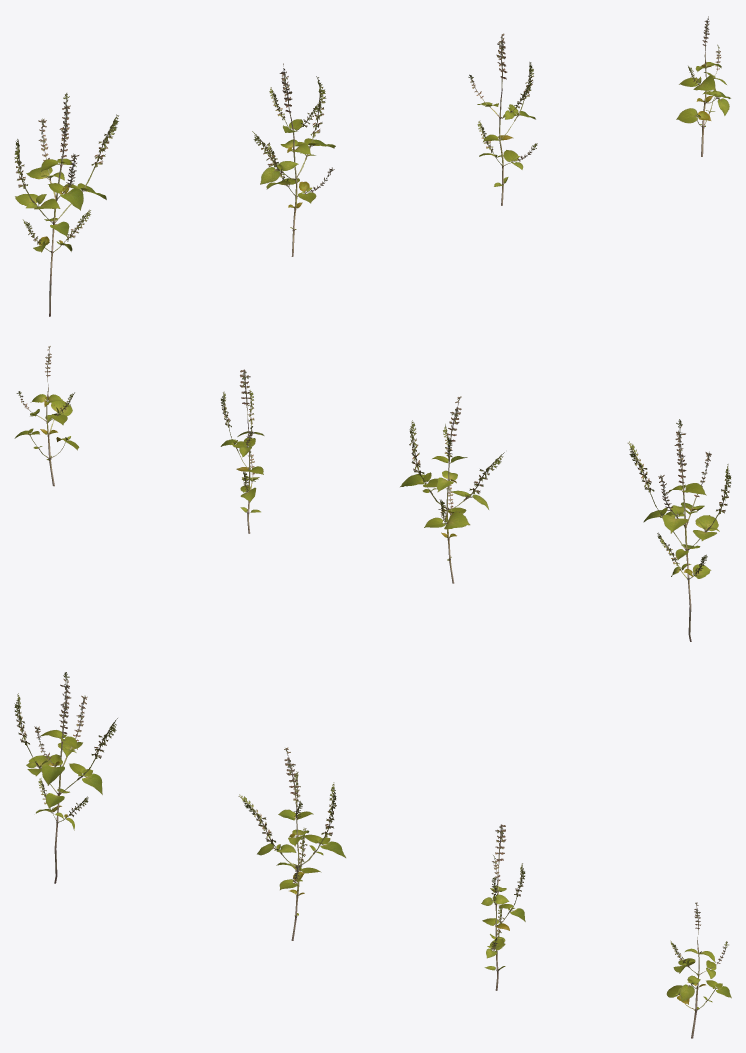
File: shrub.glb
3 views of the same model, one above another, from view 1: azimuth 30°, elevation 25°; view 2: azimuth 150°, elevation 25°; view 3: azimuth 330°, elevation 25° (orthographic). The views are drawn at different scales.
Parts seen in each view (by area): view 1: shrub_03_a, shrub_03_b, shrub_03_c, shrub_03_d; view 2: shrub_03_a, shrub_03_b, shrub_03_c, shrub_03_d; view 3: shrub_03_a, shrub_03_b, shrub_03_c, shrub_03_d.
Part boxes in pixels (<box>): shrub_03_a: <box>14,93,118,316</box>; shrub_03_b: <box>252,63,335,256</box>; shrub_03_c: <box>468,33,537,205</box>; shrub_03_d: <box>676,16,730,156</box>; shrub_03_a: <box>627,419,731,641</box>; shrub_03_b: <box>400,396,504,583</box>; shrub_03_c: <box>220,369,264,533</box>; shrub_03_d: <box>14,346,79,486</box>; shrub_03_a: <box>14,672,117,883</box>; shrub_03_b: <box>238,747,345,940</box>; shrub_03_c: <box>481,824,525,990</box>; shrub_03_d: <box>666,902,731,1038</box>.
Size of the model in its own units: 1.37 by 0.4028 by 0.1512.
1 material, 1 textured.
